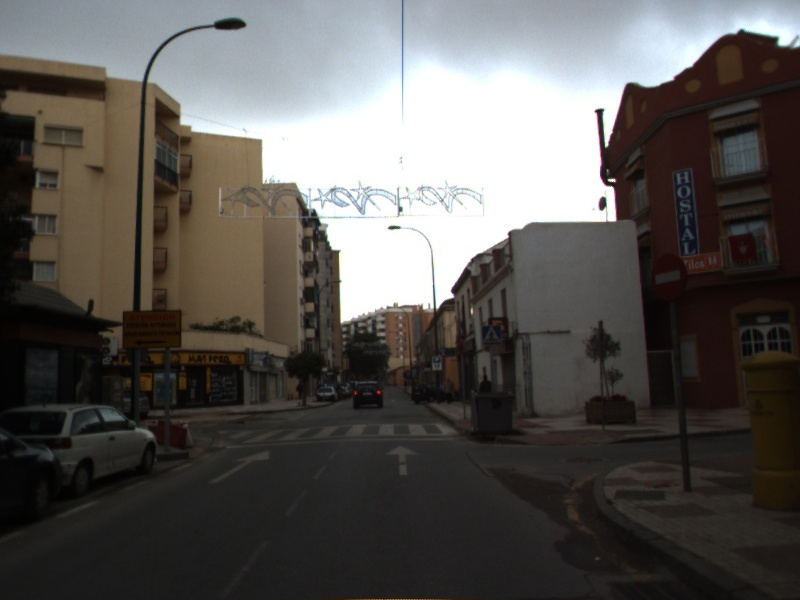STRAIGHT: (207, 447, 272, 485), (384, 443, 421, 477)
